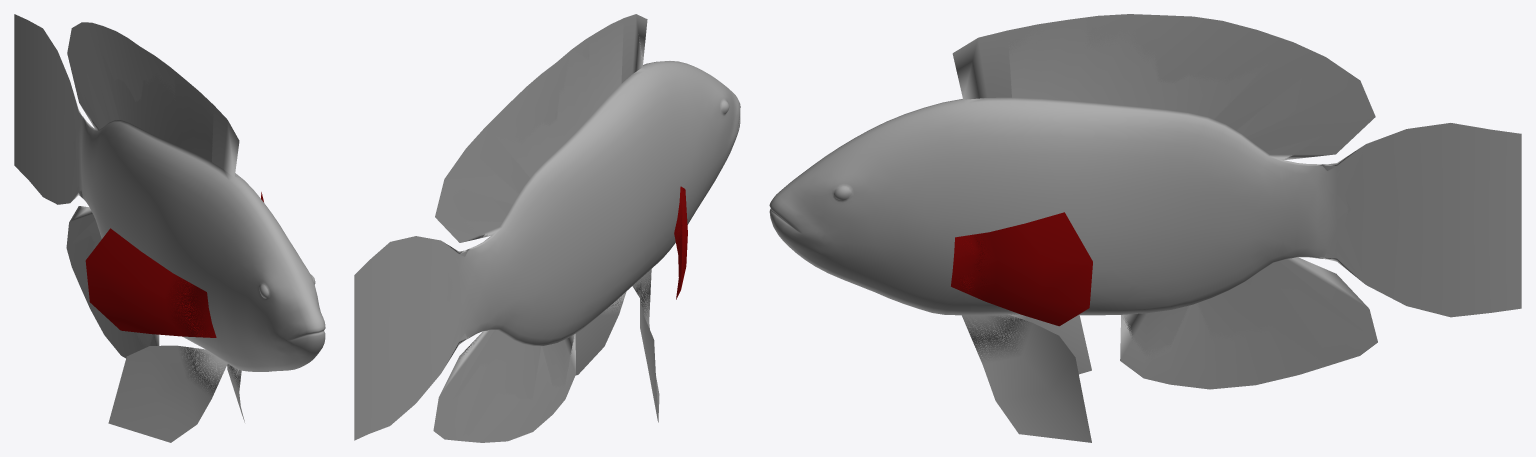
File: Labridae_C.fbx
3 renders of one model, left to right at view 1: azimuth 30°, elevation 25°; view 2: azimuth 150°, elevation 25°; view 3: azimuth 270°, elevation 25°, orthographic. The views are drawn at different scales.
Parts seen in each view (by area): view 1: Labridae_C_LOD0; view 2: Labridae_C_LOD0; view 3: Labridae_C_LOD0.
Part boxes in pixels (x1=…): Labridae_C_LOD0: x1=14, y1=14, x2=325, y2=442; Labridae_C_LOD0: x1=354, y1=14, x2=740, y2=442; Labridae_C_LOD0: x1=769, y1=14, x2=1521, y2=442.
Size of what is drawn, in the model's own units: 0.3085 by 0.5848 by 1.01.
